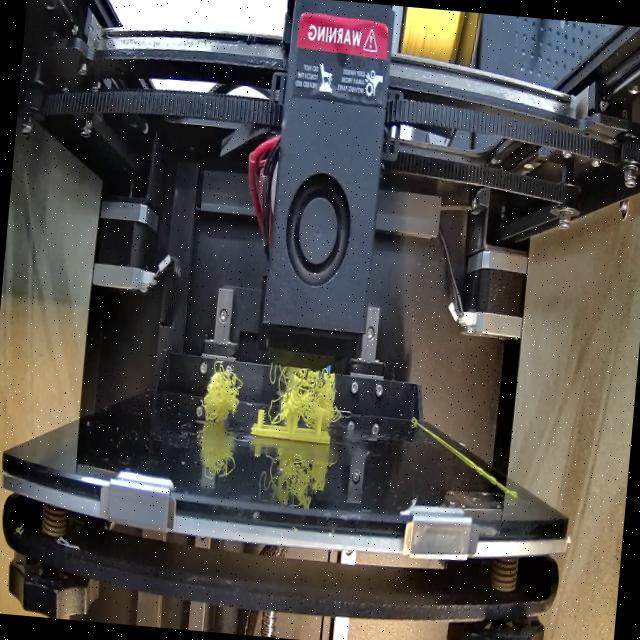spaghetti: (268, 360, 338, 427), (194, 368, 241, 430)
